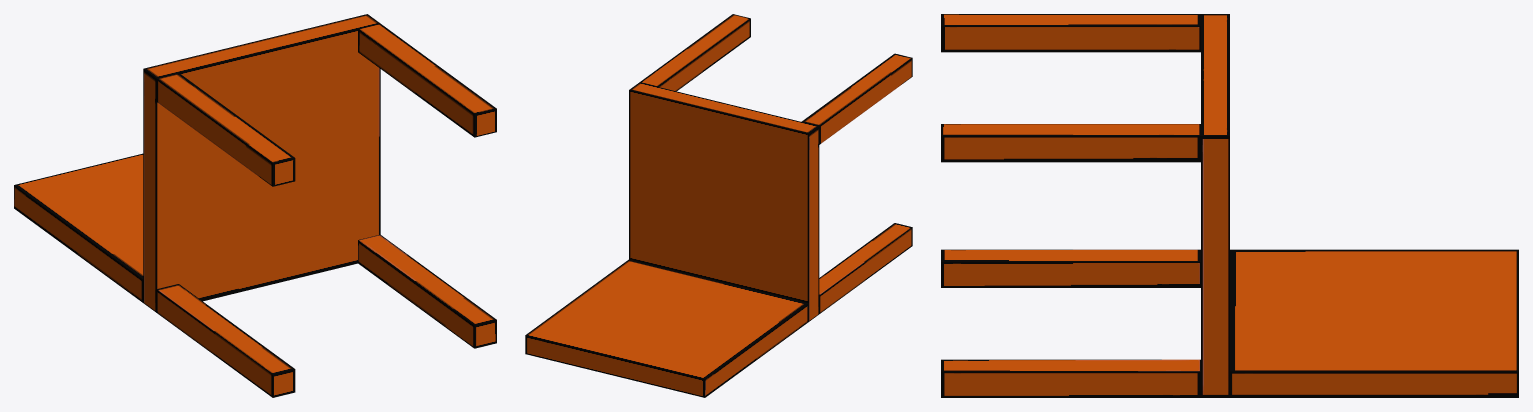
File: chair.dae
3 views of the same model, side by side, from view 1: azimuth 30°, elevation 25°; view 2: azimuth 150°, elevation 25°; view 3: azimuth 270°, elevation 25° (orthographic). The views are drawn at different scales.
Visible parts, largest first — view 1: chair; view 2: chair; view 3: chair.
Part boxes in pixels (<box>): chair: <box>14,14,496,397</box>; chair: <box>525,14,912,397</box>; chair: <box>941,14,1518,397</box>.
Size of the model in its own units: 1 by 2 by 1.
Materials: 1 (1 with a texture image).
